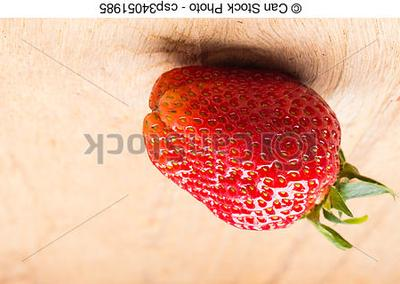strawberry: (0, 0, 400, 284)
